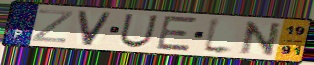E: (154, 15, 200, 53)
L: (200, 15, 236, 57)
N: (238, 20, 284, 57)
U: (117, 12, 160, 49)
V: (76, 10, 115, 48)
Z: (29, 8, 76, 45)
